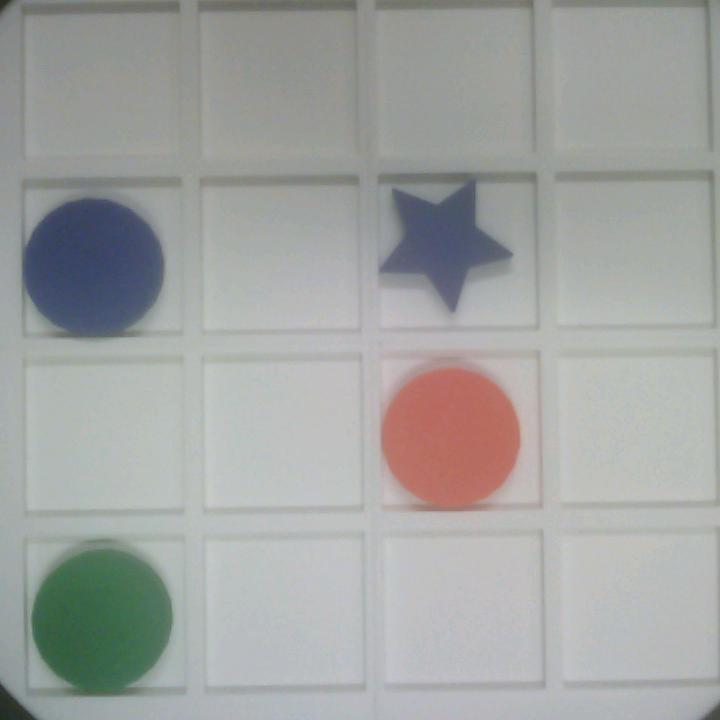Blue circle: (25, 195, 168, 335)
Blue star: (378, 177, 513, 314)
Green circle: (30, 550, 172, 688)
Orange circle: (380, 366, 523, 505)
